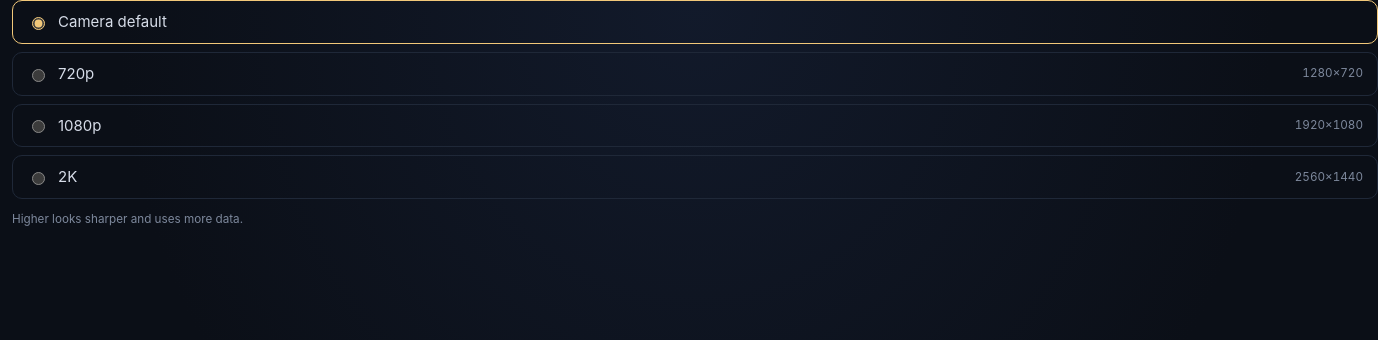
Test: saves a new choice
What coordinates should you click on to do the following:
click the radio button labelled "1080p 1920×1080"
I would click on:
 (38, 127)
Its box is [32,120,45,133].
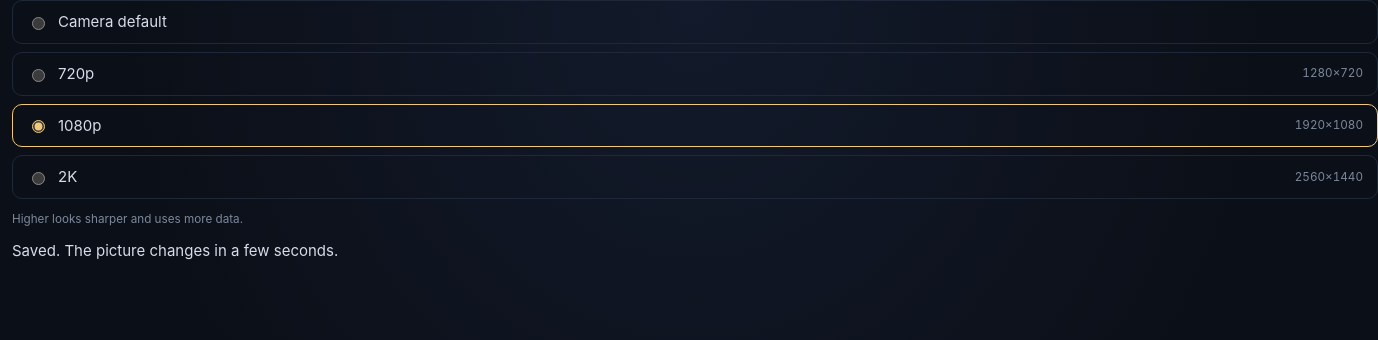
Expected: the radio button labelled "1080p 1920×1080" is checked, [32,120,45,133]
Expected: the text "Saved. The picture changes in a few seconds." is shown, [12,241,338,260]
